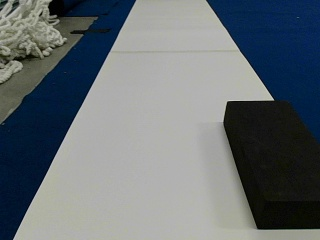block: (223, 100, 319, 230)
